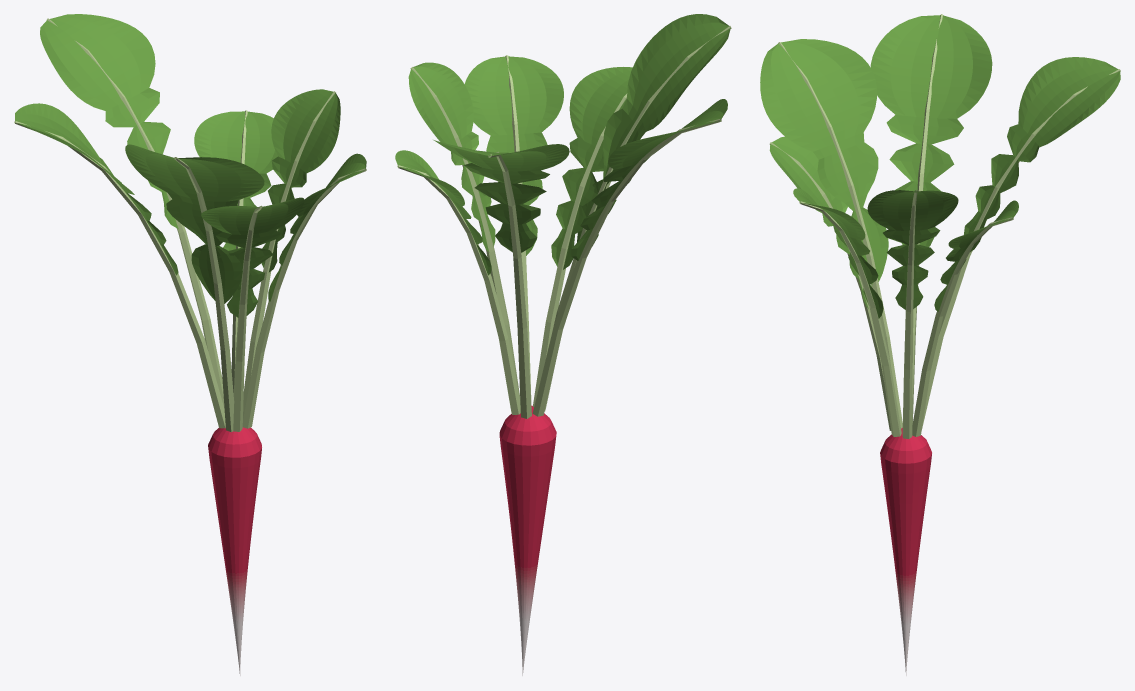
File: radish_harvest_v13.glb
The picture shows the model from 3 angles, left to right: view 1: azimuth 30°, elevation 25°; view 2: azimuth 150°, elevation 25°; view 3: azimuth 270°, elevation 25°; orthographic projection. The views are drawn at different scales.
Parts seen in each view (by area): view 1: plant; view 2: plant; view 3: plant.
Part boxes in pixels (x1,y1,x2,y2): plant: (14,14,366,675); plant: (395,14,731,675); plant: (760,14,1120,675).
Size of the model in its own units: 0.2231 by 0.4157 by 0.2367.
Materials: 1 (1 with a texture image).
